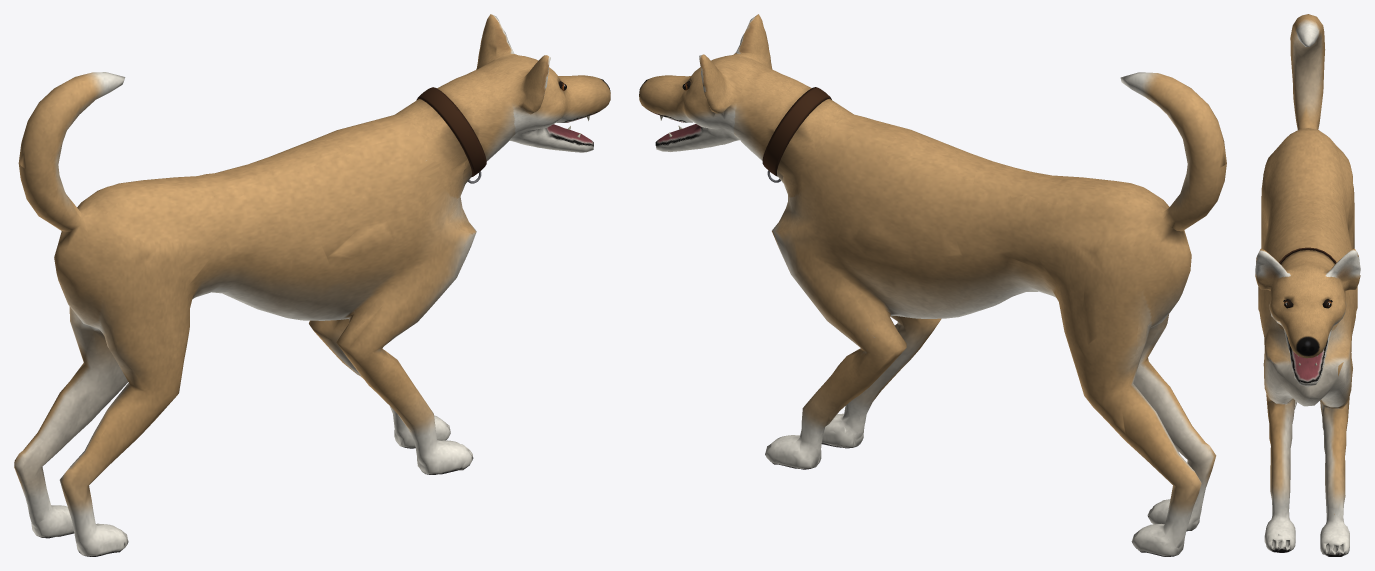
The model's file is dog_bark.glb.
The picture shows the model from 3 angles, left to right: view 1: azimuth 30°, elevation 25°; view 2: azimuth 150°, elevation 25°; view 3: azimuth 270°, elevation 25°; orthographic projection. The views are drawn at different scales.
Visible parts, largest first — view 1: dog_bark_mesh; view 2: dog_bark_mesh; view 3: dog_bark_mesh.
Boxes of the visible parts, x1,y1,x2,y2 form: dog_bark_mesh: [14, 14, 610, 556]; dog_bark_mesh: [639, 14, 1226, 556]; dog_bark_mesh: [1255, 14, 1360, 556].
Size of the model in its own units: 0.9264 by 0.7024 by 0.1729.
1 material, 1 textured.
